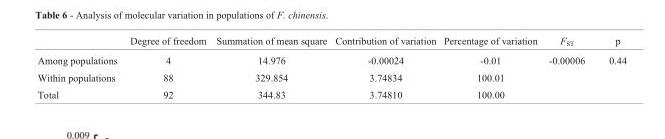table: (36, 36, 625, 99)
table column: (210, 36, 330, 99), (330, 36, 439, 99), (439, 36, 542, 99), (122, 36, 210, 99), (36, 36, 122, 99), (542, 36, 596, 99), (596, 36, 625, 99)
table column header: (36, 36, 625, 51)
table row: (36, 51, 625, 69), (36, 69, 625, 86), (36, 36, 625, 51), (36, 86, 625, 99)
